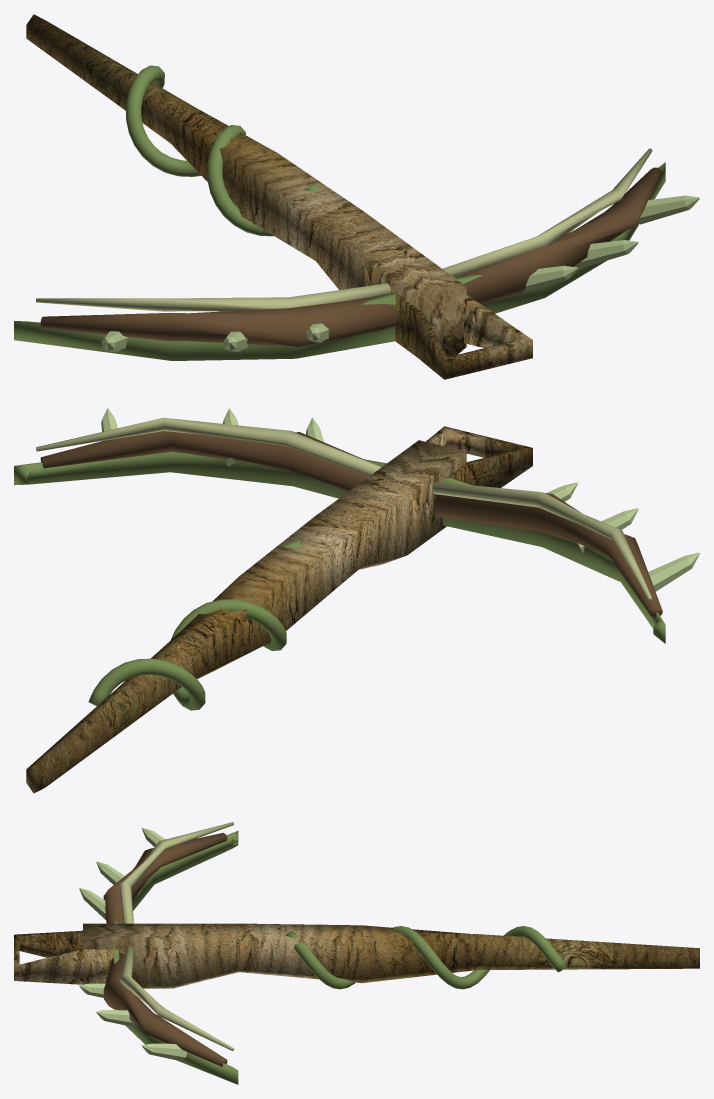
The model's file is bark_arbalest.glb.
3 renders of one model, top to bottom at view 1: azimuth 30°, elevation 25°; view 2: azimuth 150°, elevation 25°; view 3: azimuth 270°, elevation 25°, orthographic. The views are drawn at different scales.
Parts seen in each view (by area): view 1: BarkArbalest; view 2: BarkArbalest; view 3: BarkArbalest.
Part boxes in pixels (x1,y1,x2,y2): BarkArbalest: [14, 14, 699, 379]; BarkArbalest: [14, 408, 699, 793]; BarkArbalest: [14, 822, 699, 1084].
Size of the model in its own units: 0.9981 by 0.125 by 1.21.
5 materials, 1 textured.
